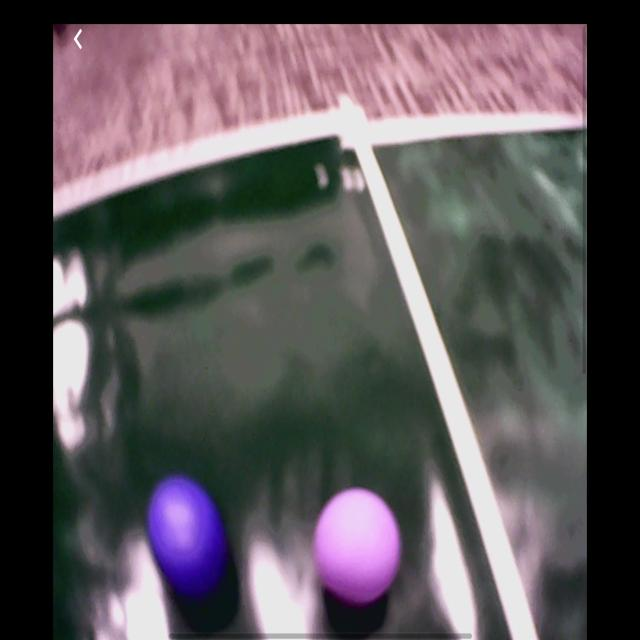ball: (315, 489, 403, 605), (148, 479, 228, 598)
